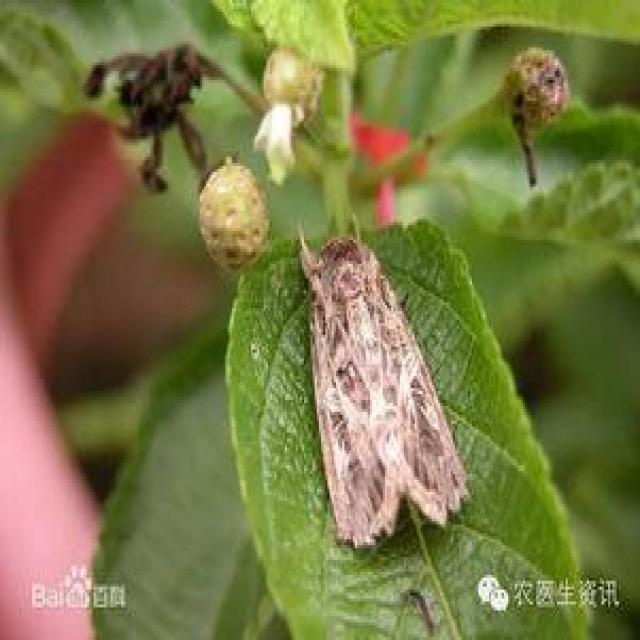BeetArmyWorm-Adult-: (294, 209, 478, 558)
